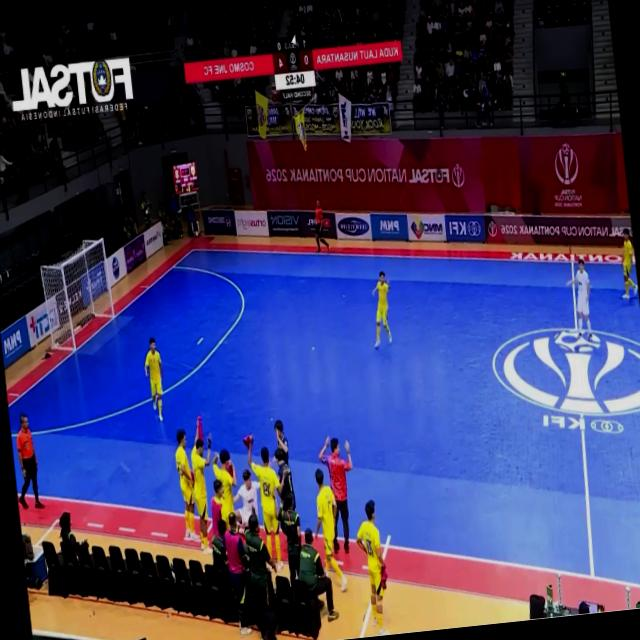keeper: (274, 449, 295, 509), (274, 420, 288, 463)
official: (319, 438, 351, 553), (297, 529, 337, 620), (245, 514, 275, 634), (224, 513, 251, 636), (279, 494, 300, 586)
players: (247, 440, 282, 570), (356, 501, 386, 635), (314, 469, 346, 592), (175, 430, 198, 540), (190, 428, 210, 554), (566, 258, 591, 339), (233, 469, 258, 534), (212, 450, 236, 516), (144, 338, 162, 422), (372, 272, 391, 349), (622, 228, 637, 299), (314, 200, 328, 251)
referee: (16, 414, 42, 508), (314, 200, 327, 251)
